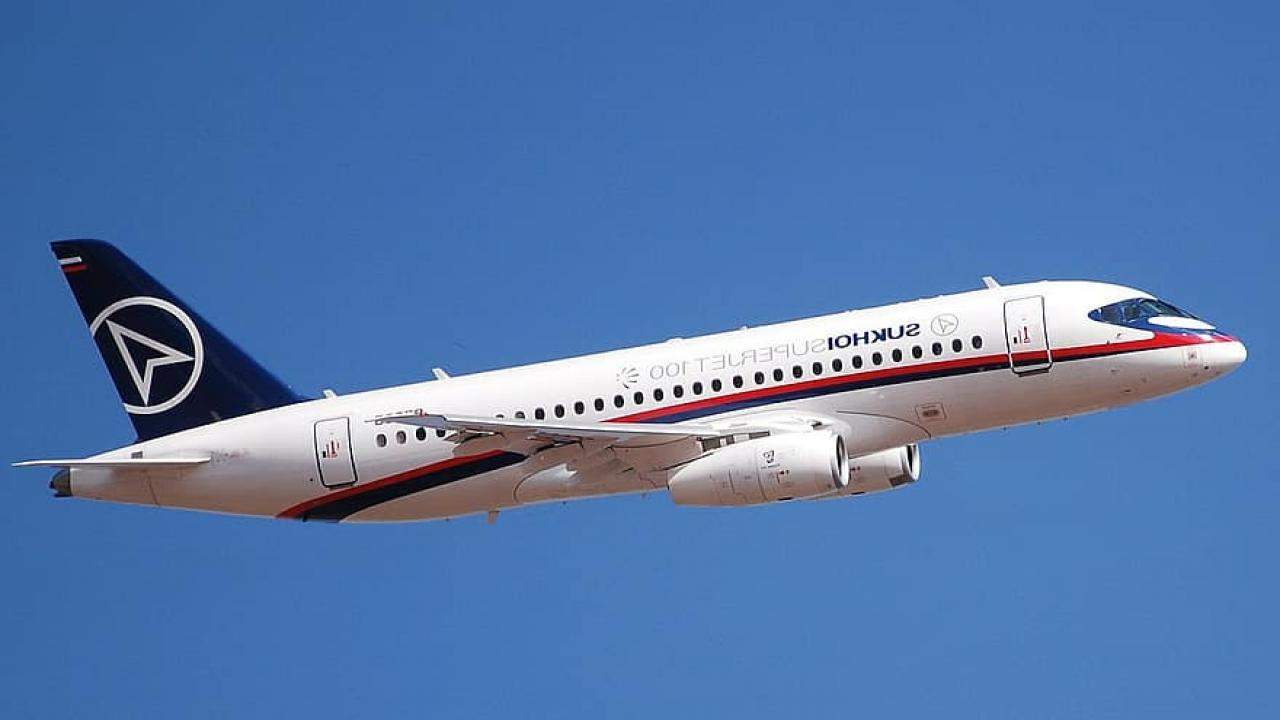Airplane: (5, 212, 1280, 552)
